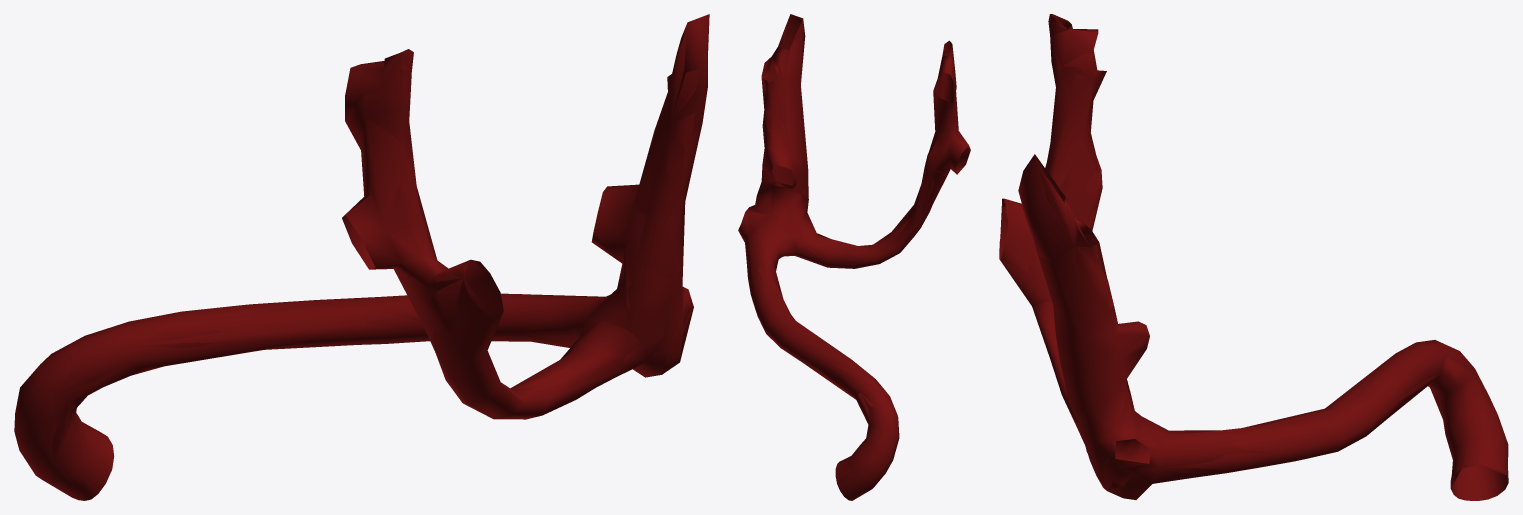
The model's file is truncus brachiocephalicus.fbx.
The picture shows the model from 3 angles, left to right: view 1: azimuth 30°, elevation 25°; view 2: azimuth 150°, elevation 25°; view 3: azimuth 270°, elevation 25°; orthographic projection. The views are drawn at different scales.
Parts seen in each view (by area): view 1: truncus brachiocephalicus, truncus brachiocephalicus low; view 2: truncus brachiocephalicus, truncus brachiocephalicus low; view 3: truncus brachiocephalicus, truncus brachiocephalicus low.
Boxes of the visible parts, x1,y1,x2,y2 form: truncus brachiocephalicus: [14, 14, 709, 500]; truncus brachiocephalicus low: [40, 17, 709, 498]; truncus brachiocephalicus: [738, 14, 970, 500]; truncus brachiocephalicus low: [745, 14, 958, 499]; truncus brachiocephalicus: [999, 14, 1508, 500]; truncus brachiocephalicus low: [999, 14, 1508, 499].
Bounding box in the file's own units: 6.98 × 8.67 × 7.68.
